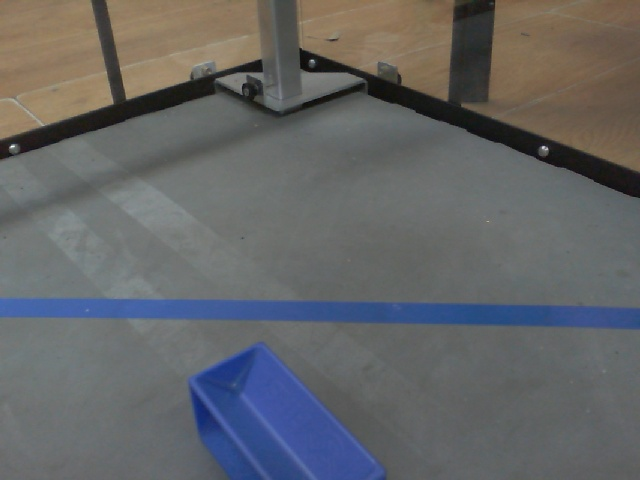BlueSample: (185, 341, 391, 480)
